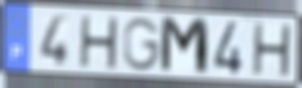4: (211, 20, 245, 78), (37, 13, 72, 69)
G: (122, 16, 163, 73)
H: (77, 14, 120, 72), (250, 22, 293, 79)
M: (159, 14, 211, 78)
